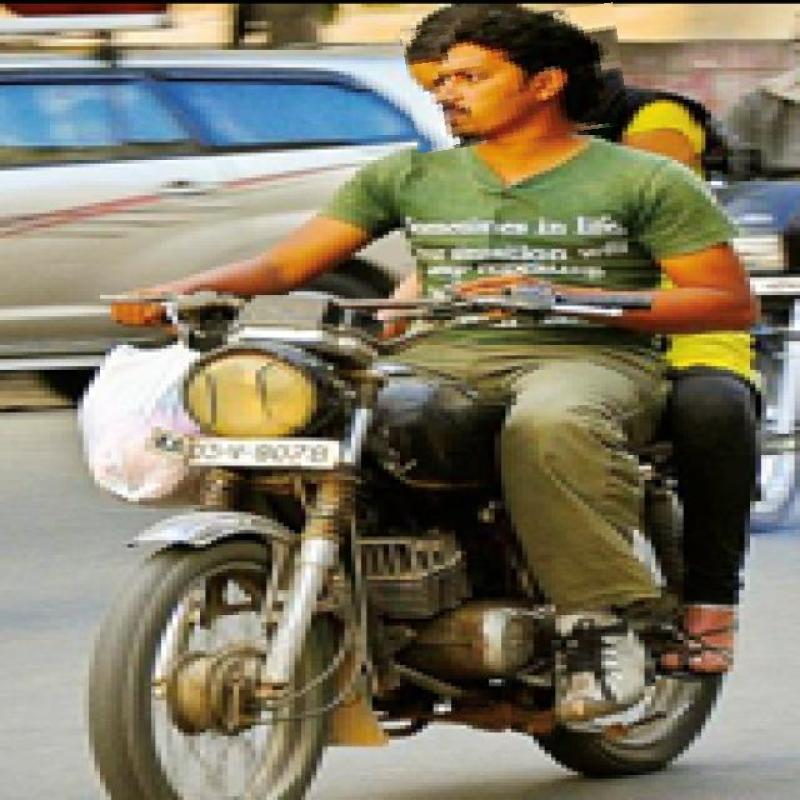nohelmet: (405, 9, 626, 146)
